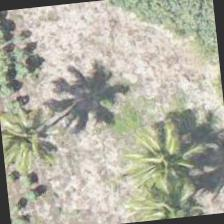Kelapa_Sawit: (110, 136, 208, 223), (0, 85, 73, 182)
